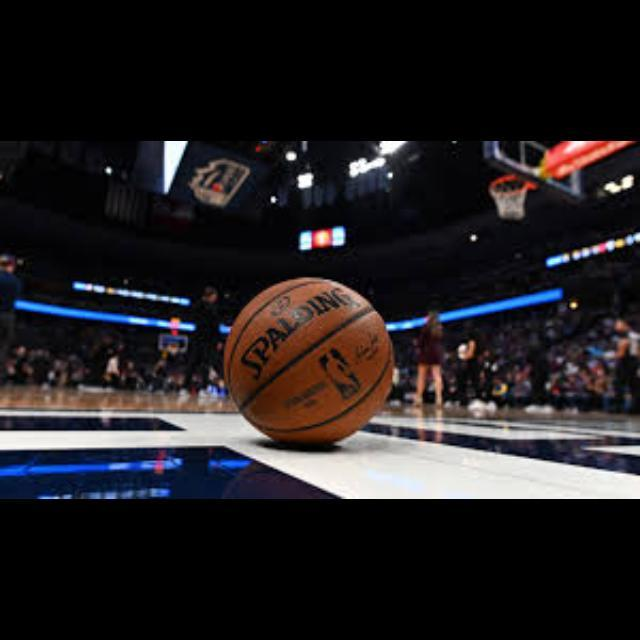basketball: (225, 278, 392, 444)
